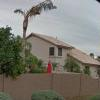Palm tree: (10, 3, 34, 66)
